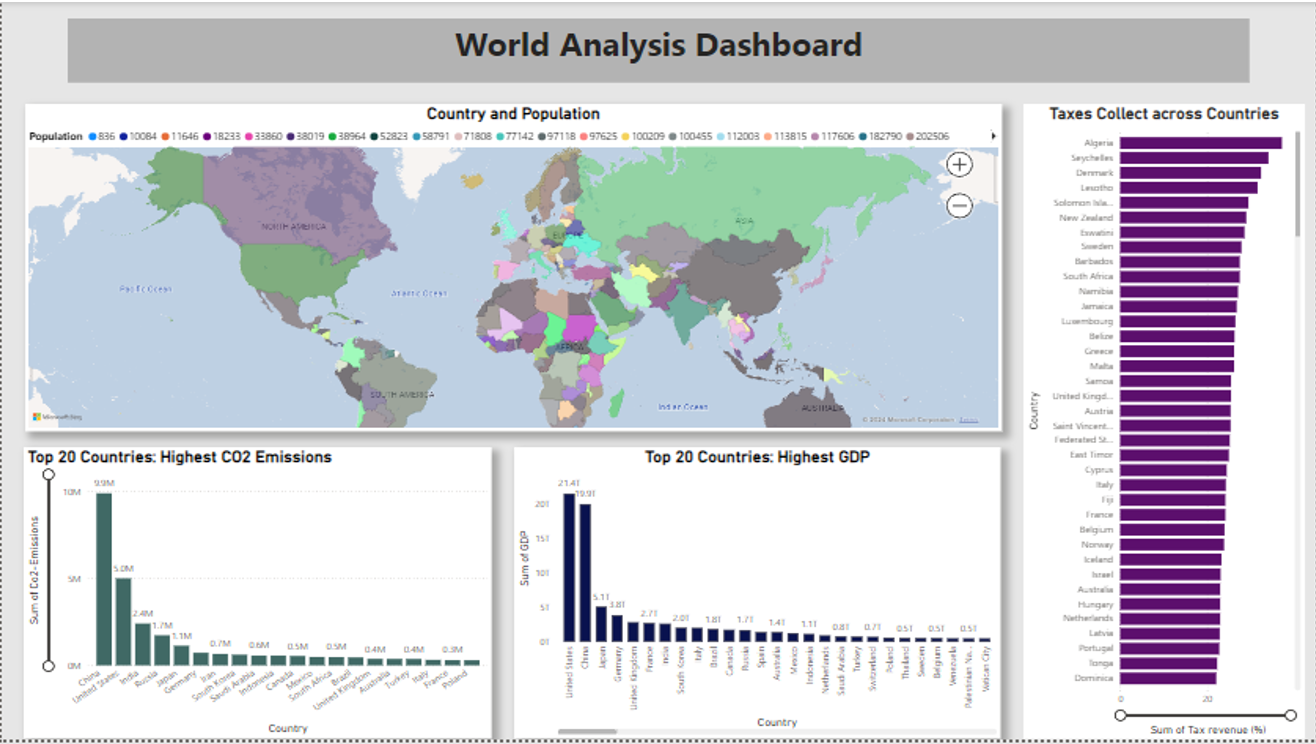

The page's visual inventory and layout, read from the dashboard file:
{"tool":"powerbi","page":{"name":"Page 4","canvas":[1700,1000],"ordinal":3},"visuals":[{"type":"filledMap","fields":{"Category":["cleaned_world_data.Country"],"Series":["cleaned_world_data.Population"]},"box":[29.3,221.2,603.4,420.5],"z":2},{"type":"clusteredColumnChart","title":"Top 20 Countries: Highest GDP","fields":{"Category":["cleaned_world_data.Country"],"Y":["Sum(cleaned_world_data.GDP)"]},"box":[663.7,221.2,629,420.5],"z":3},{"type":"clusteredColumnChart","title":"Top 20 Countries: Highest CO2 Emissions","fields":{"Category":["cleaned_world_data.Country"],"Y":["Sum(cleaned_world_data.Co2-Emissions)"]},"box":[29.3,672.8,1230.5,327.3],"z":4},{"type":"clusteredBarChart","title":"Taxes Collect across Countries","fields":{"Category":["cleaned_world_data.Country"],"Y":["Sum(cleaned_world_data.Tax revenue (%))"]},"box":[1320.1,221.2,380.3,778.9],"z":5}]}

Visuals, with their boxes on the page's 1700x1000 design canvas (x1, y1, x2, y2). These are canvas units, not pixel positions in the 1316x744 screenshot, which may show the page scaled, cropped or inside an application window:
filledMap - cleaned_world_data.Country x cleaned_world_data.Population: select_region(29, 221, 633, 642)
"Top 20 Countries: Highest GDP" clusteredColumnChart: select_region(664, 221, 1293, 642)
"Top 20 Countries: Highest CO2 Emissions" clusteredColumnChart: select_region(29, 673, 1260, 1000)
"Taxes Collect across Countries" clusteredBarChart: select_region(1320, 221, 1700, 1000)
